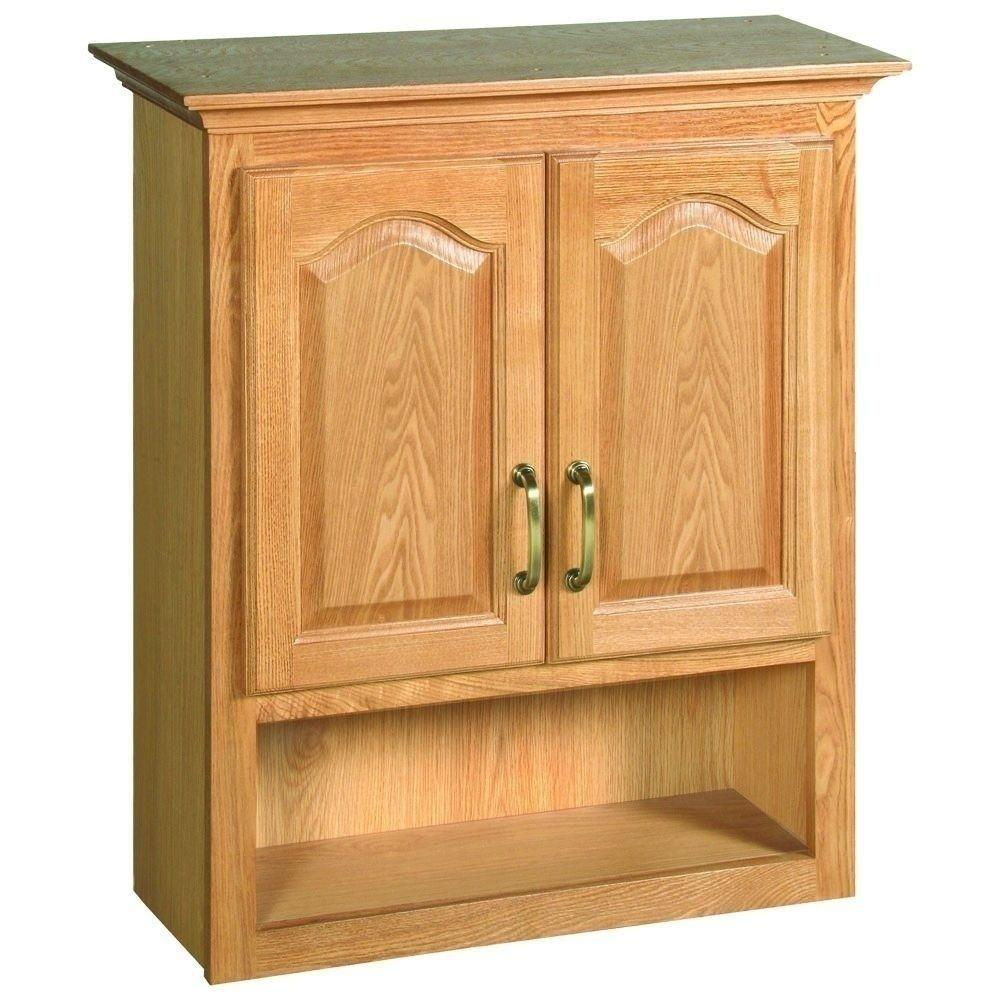cabinet_door: (247, 155, 550, 677), (551, 134, 823, 646)
handle: (562, 456, 601, 596), (513, 462, 545, 600)
